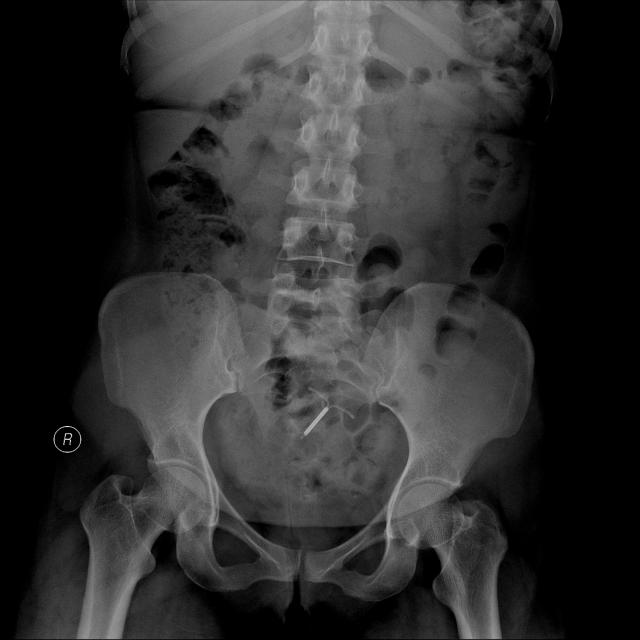normal-left: (397, 483, 508, 640)
normal-right: (76, 466, 207, 638)
